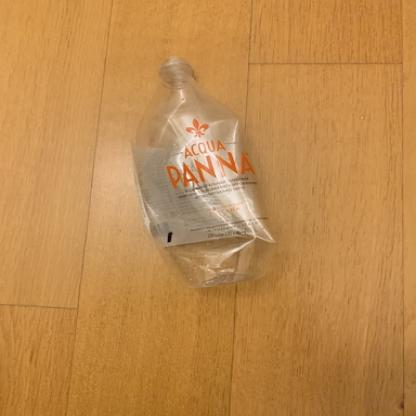trash: (129, 55, 277, 292)
